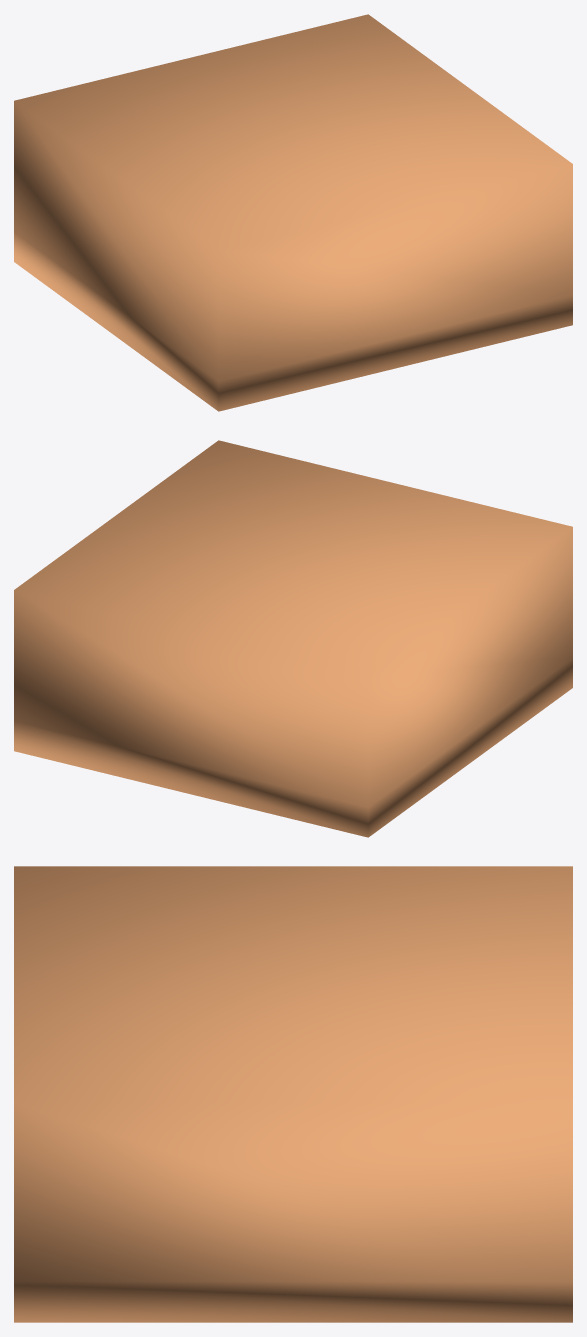
Rendered from Pan.glb.
3 views of the same model, one above another, from view 1: azimuth 30°, elevation 25°; view 2: azimuth 150°, elevation 25°; view 3: azimuth 270°, elevation 25° (orthographic). The views are drawn at different scales.
Visible parts, largest first — view 1: pan_arriba; view 2: pan_arriba; view 3: pan_arriba.
Part boxes in pixels (box(x1,y1,x2,y2)): pan_arriba: box(14, 14, 572, 411); pan_arriba: box(14, 440, 572, 837); pan_arriba: box(14, 866, 572, 1322).
Size of the model in its own units: 2 by 0.8691 by 2.
